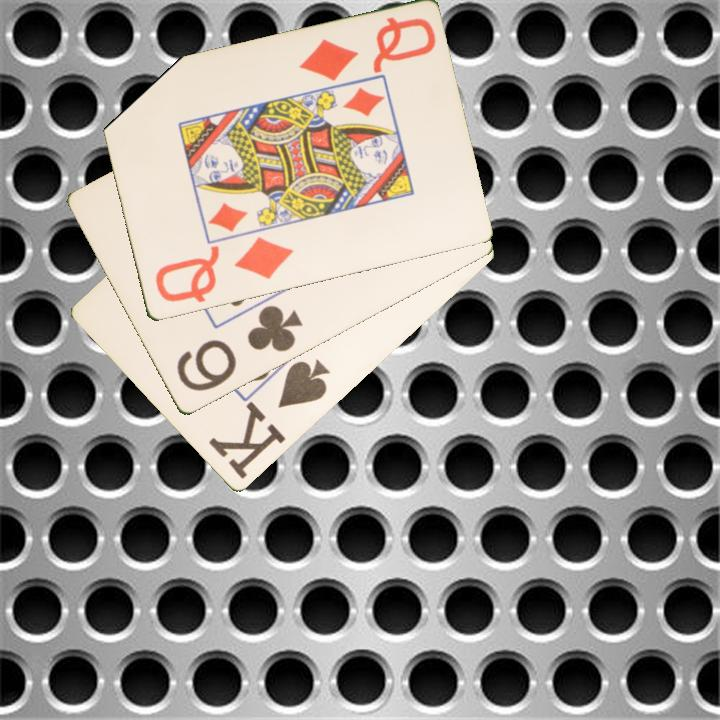6c: (172, 302, 306, 395)
Ks: (205, 356, 334, 483)
Qd: (151, 234, 296, 306), (295, 14, 441, 85)
